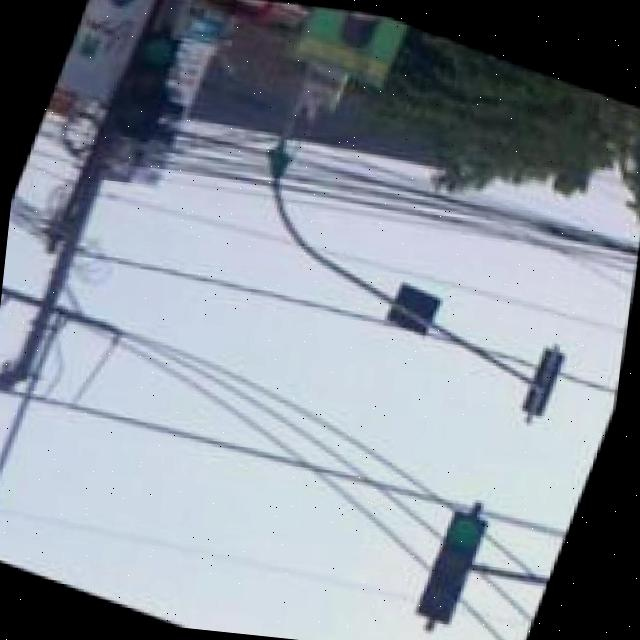green_light: (108, 22, 188, 148), (417, 503, 497, 628)
